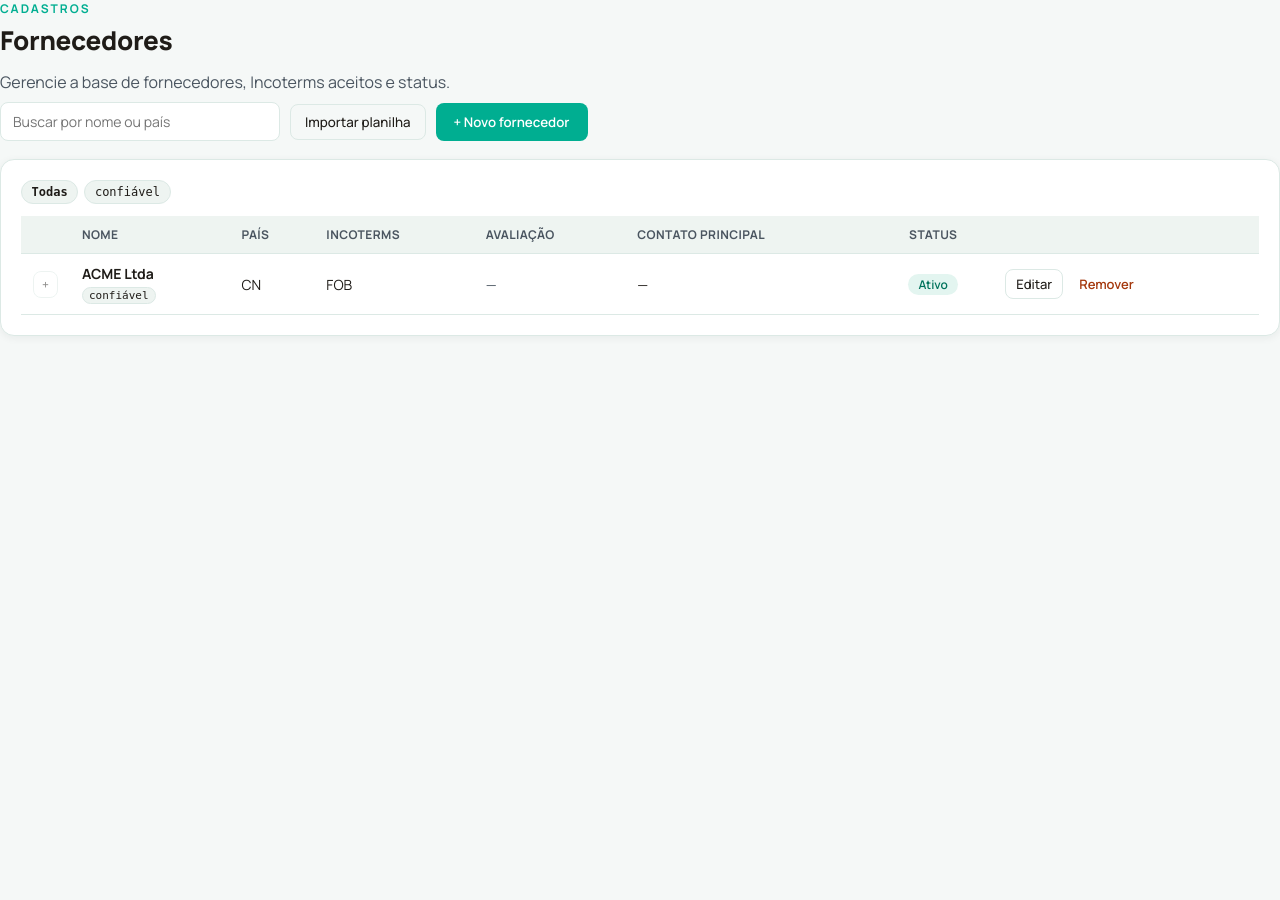
Test case: Fornecedores › 3. "Editar" na linha do fornecedor: título "Editar fornecedor" e #name preenchido
expect the text "ACME Ltda" is shown: met, box [82,264,154,283]
Step 1. Click the button "Editar" → click(1034, 284), box [1005,269,1063,299]
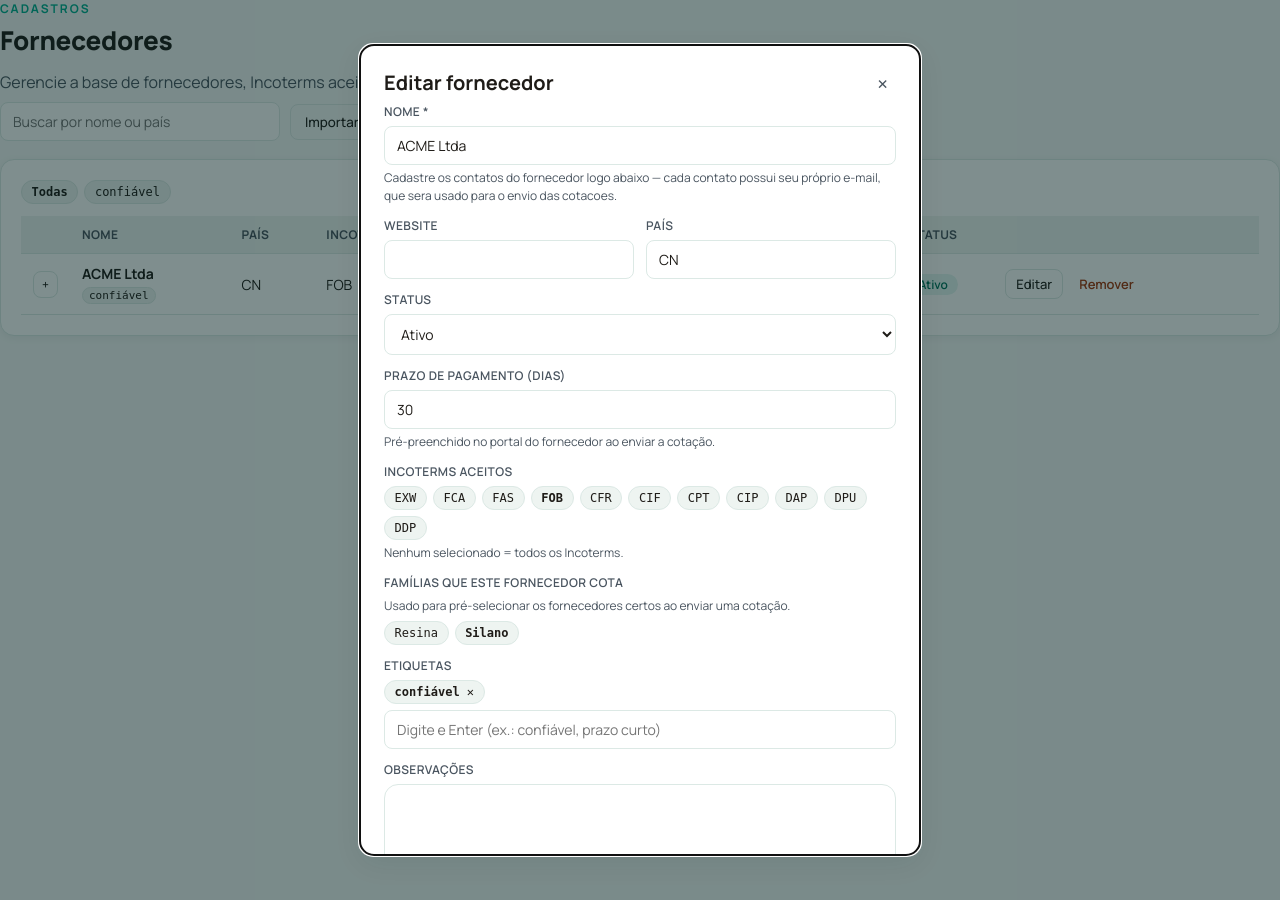
expect the heading "Editar fornecedor" is shown: met, box [384,69,554,96]
expect the field with id "name" holds "ACME Ltda": met, box [384,126,896,165]
